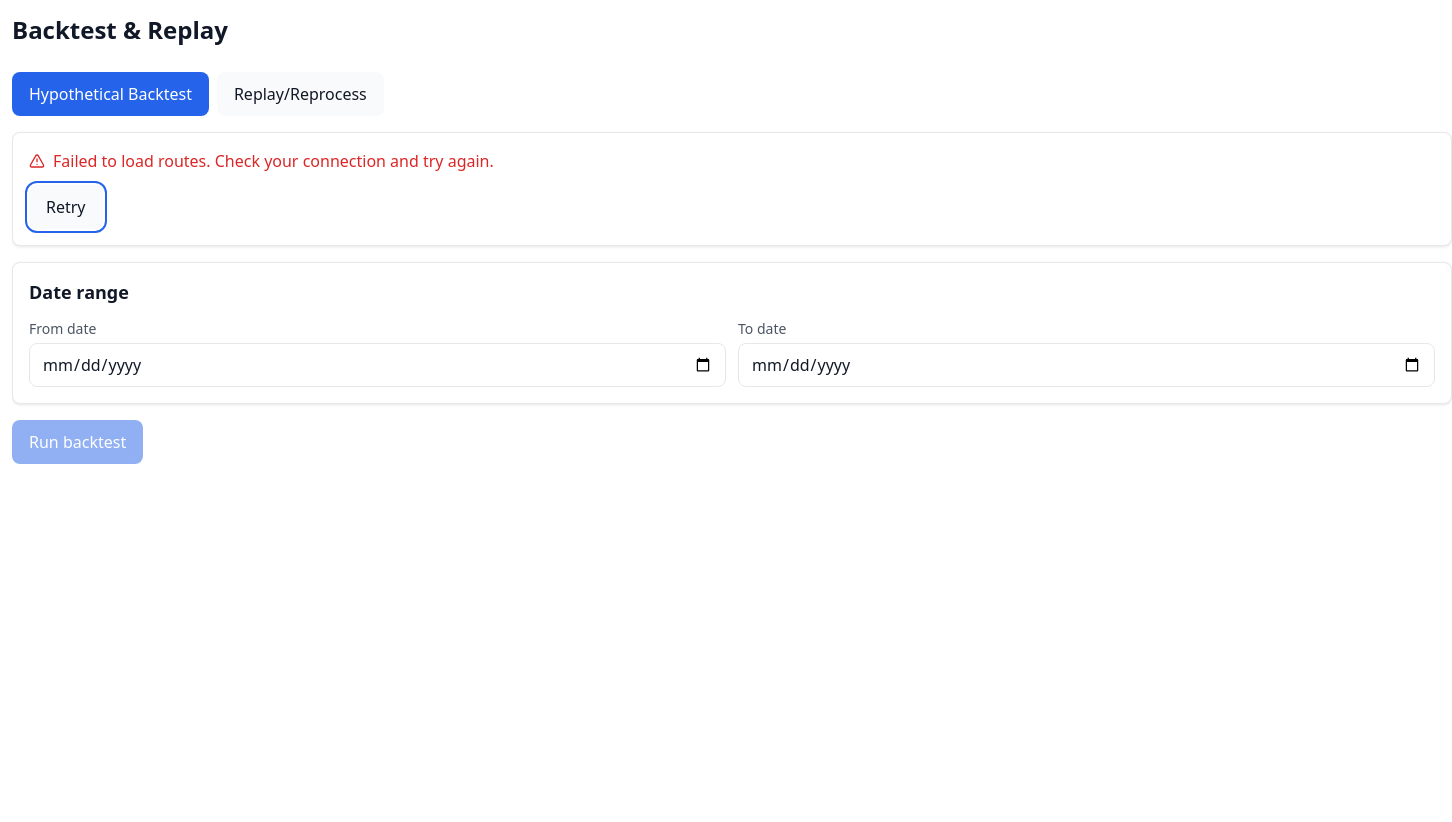
Test: BacktestView › stays in the fetch-error state and re-enables retry when retry also fails
Click the button "Retry" at (66, 207), box [29,185,102,229]
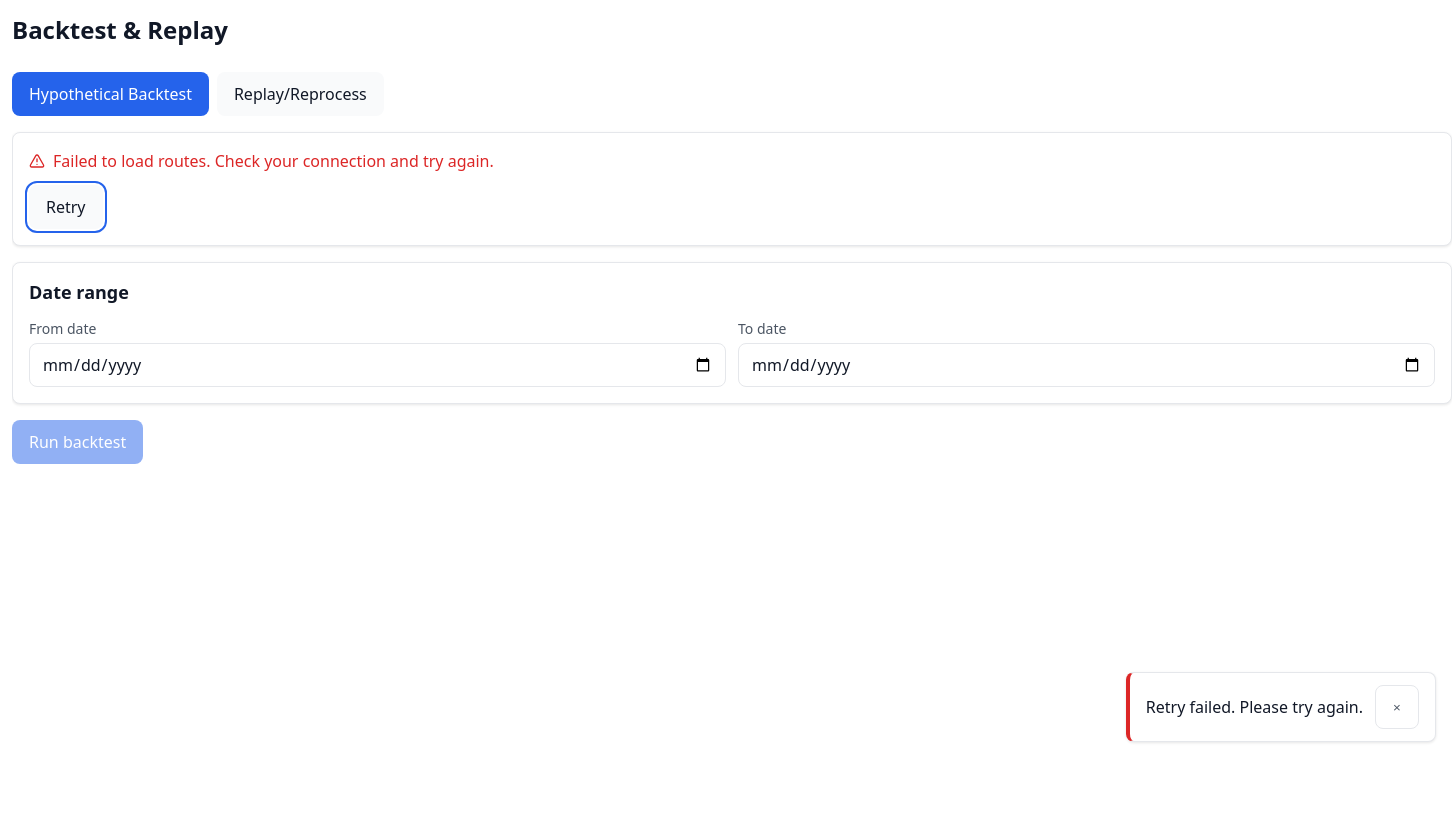
expect the text "Failed to load routes. Check your connection and try again." is shown: met, box [29,149,494,173]
expect the message with class "toast" shows "Retry failed. Please try again.": met, box [1146,696,1363,718]
